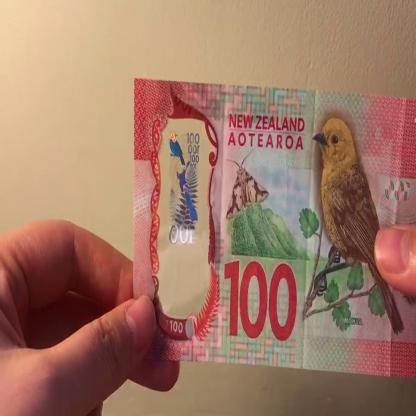100B: (164, 126, 202, 286)
